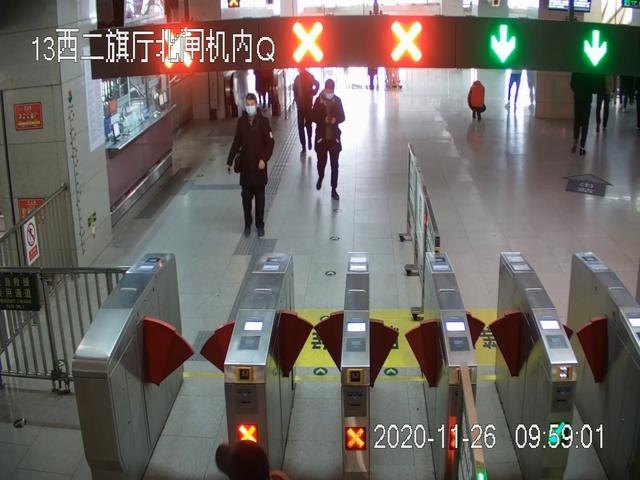person: (226, 94, 276, 238), (314, 80, 345, 203), (292, 67, 320, 154), (569, 72, 592, 157)
